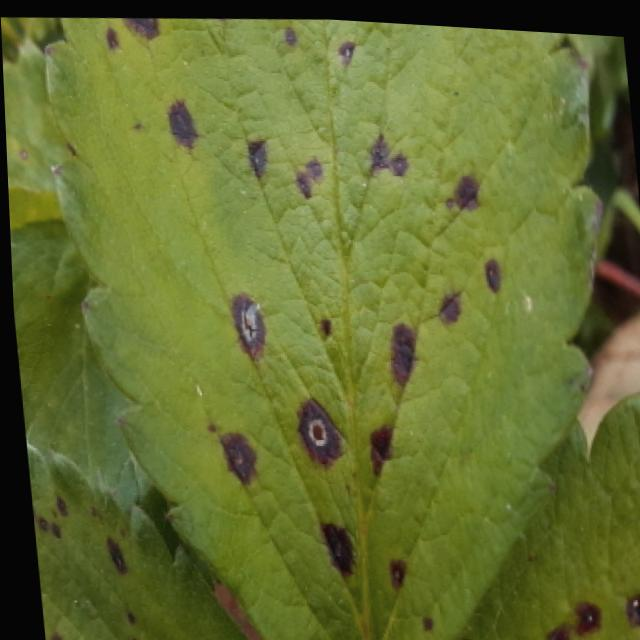Leaf Spot: (43, 15, 600, 640), (449, 383, 640, 640), (21, 441, 245, 640), (15, 16, 62, 47), (1, 31, 16, 65)
